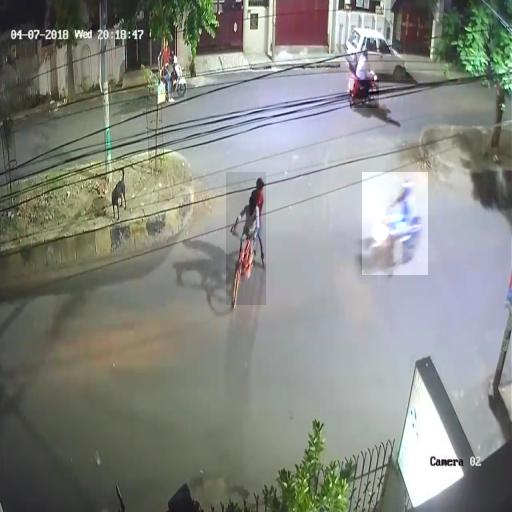小汽车: (346, 22, 406, 80)
自行车: (362, 172, 428, 275), (226, 172, 266, 305), (148, 39, 187, 104), (350, 52, 379, 108)
